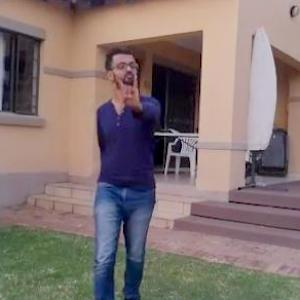takeoff-hand: (113, 72, 143, 115)
